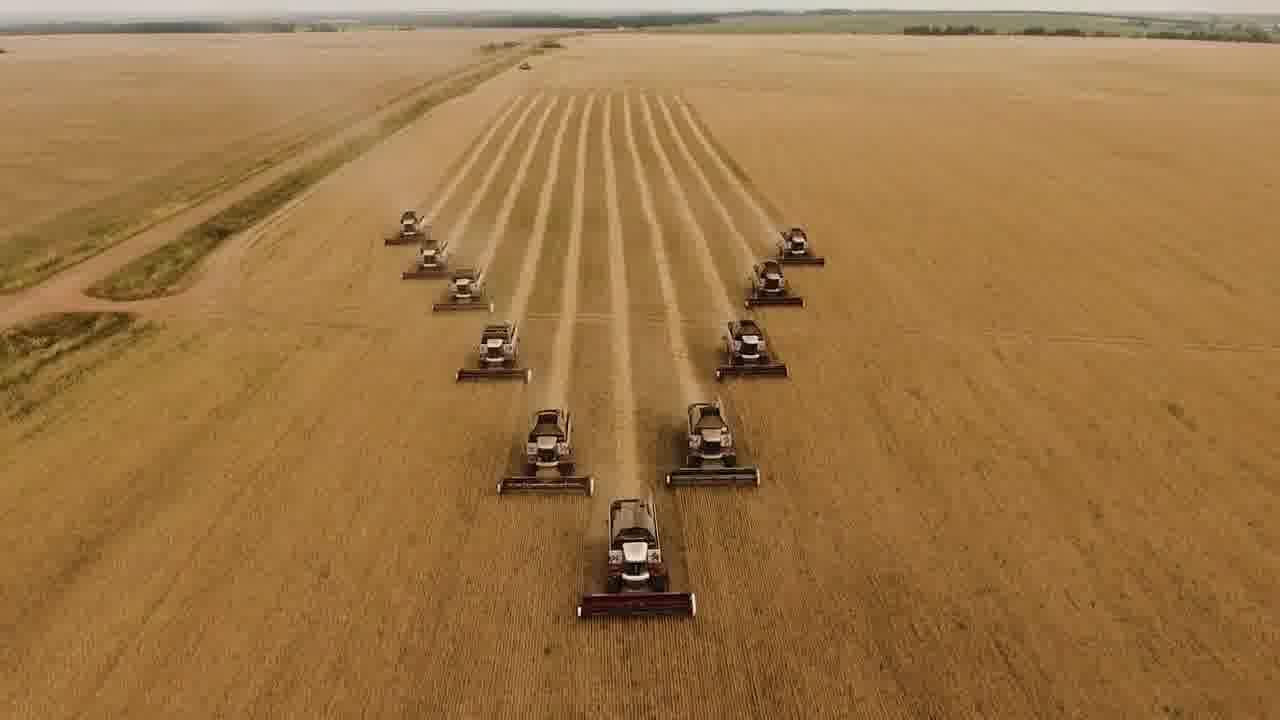combine harvester: (572, 494, 701, 625), (496, 403, 599, 502), (662, 398, 767, 494), (451, 317, 537, 387), (712, 316, 794, 385), (740, 259, 813, 313), (430, 263, 497, 317), (764, 221, 831, 271), (398, 234, 454, 282), (381, 210, 431, 247)
